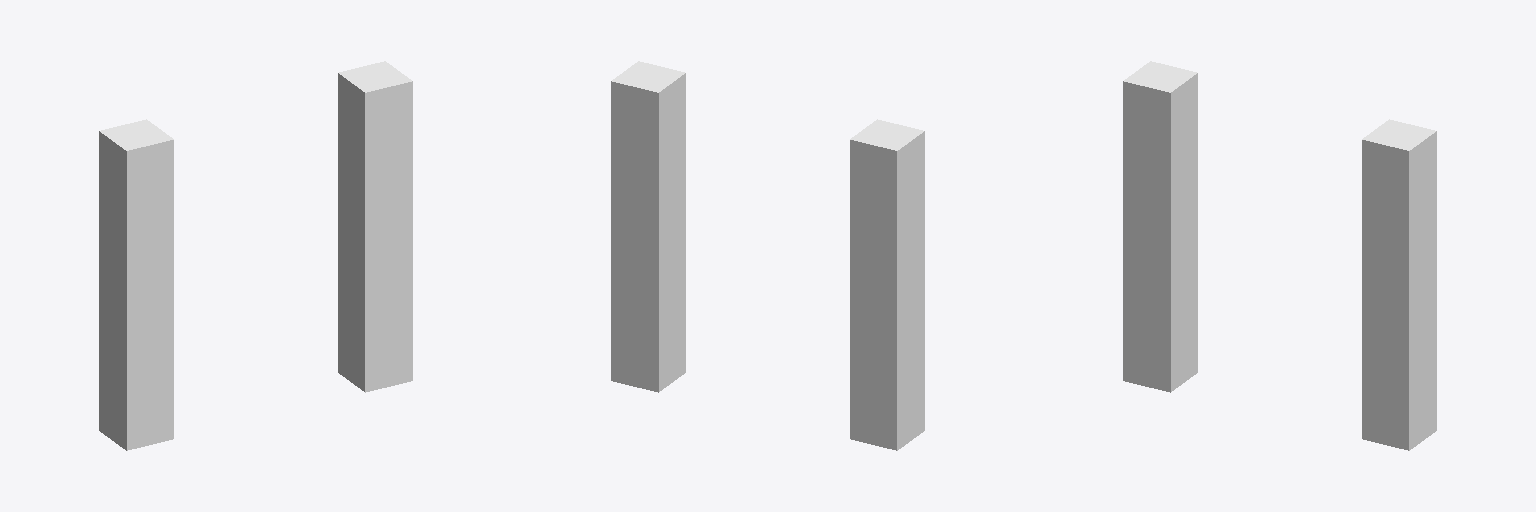
File: arms_middle_002.obj
The picture shows the model from 3 angles: view 1: azimuth 30°, elevation 25°; view 2: azimuth 150°, elevation 25°; view 3: azimuth 330°, elevation 25°; orthographic projection.
Bounding box in the file's own units: 6 × 6 × 1.